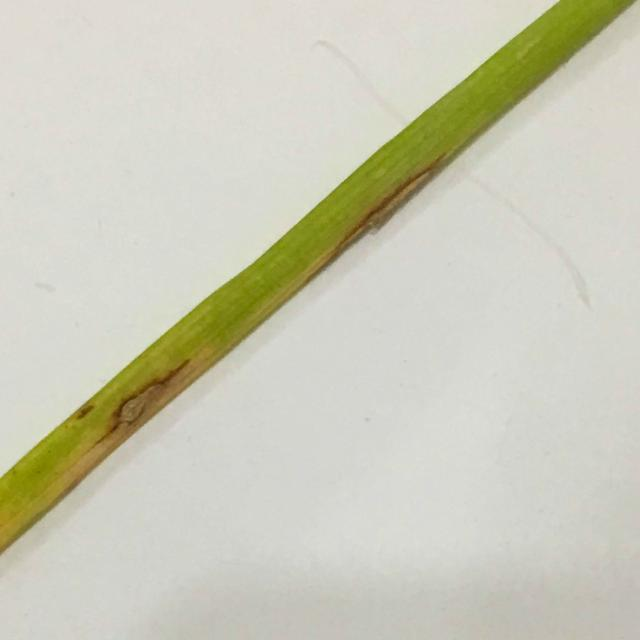Blast: (116, 386, 152, 419), (346, 200, 376, 232), (160, 355, 187, 390), (383, 184, 407, 208), (412, 168, 426, 184)
